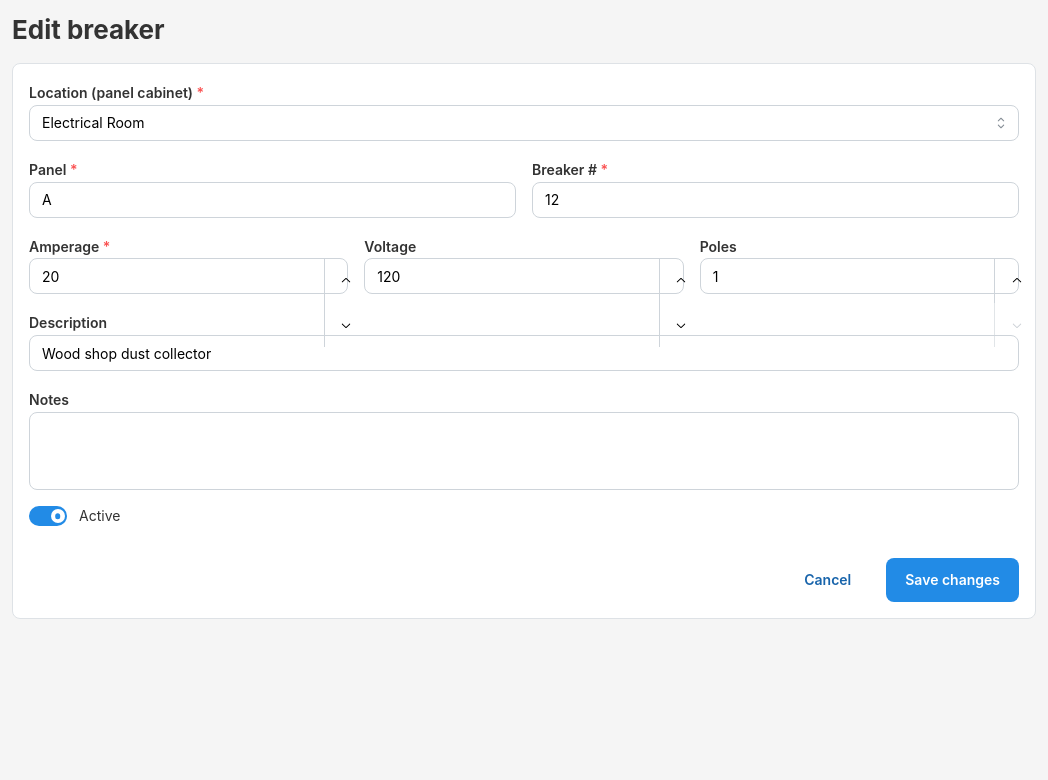
Test case: BreakerFormPage resilience states › renders a forbidden message when the API denies the save (AC-18)
Check: the field showing "A" is shown, box [29,182,516,218]
Click the button "Save changes": (953, 580) [886,558,1019,602]
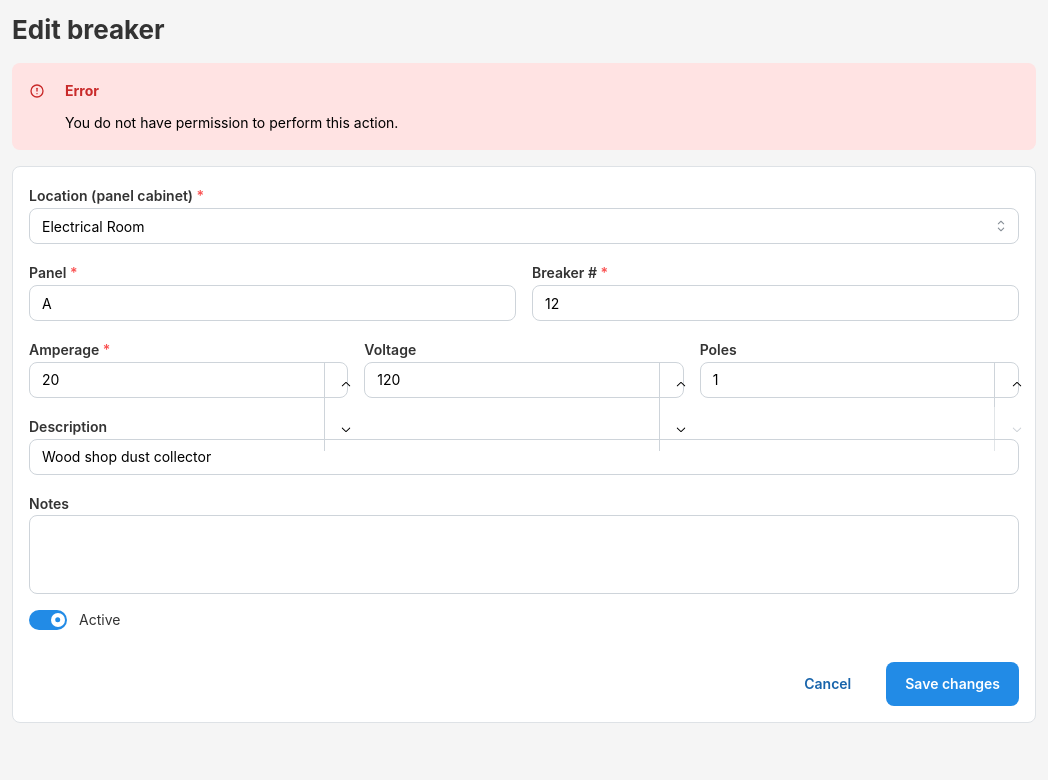
Check: the text "You do not have permission to perform this action." is shown, box [65,114,398,131]
